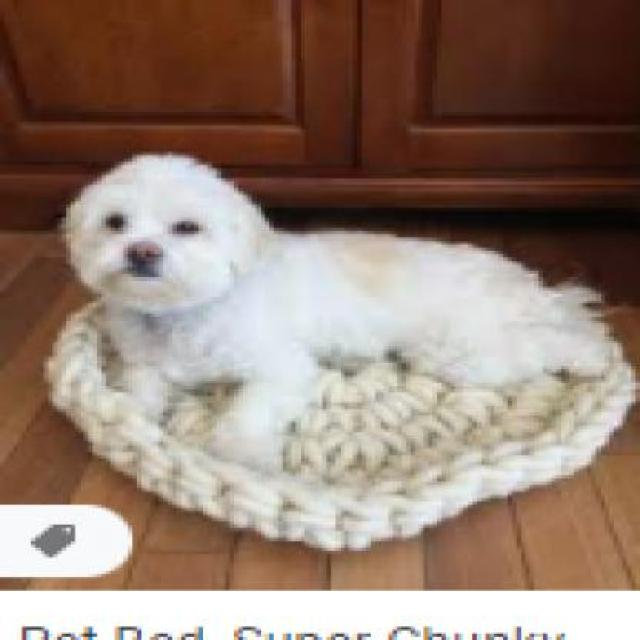Dog: (54, 148, 609, 474)
